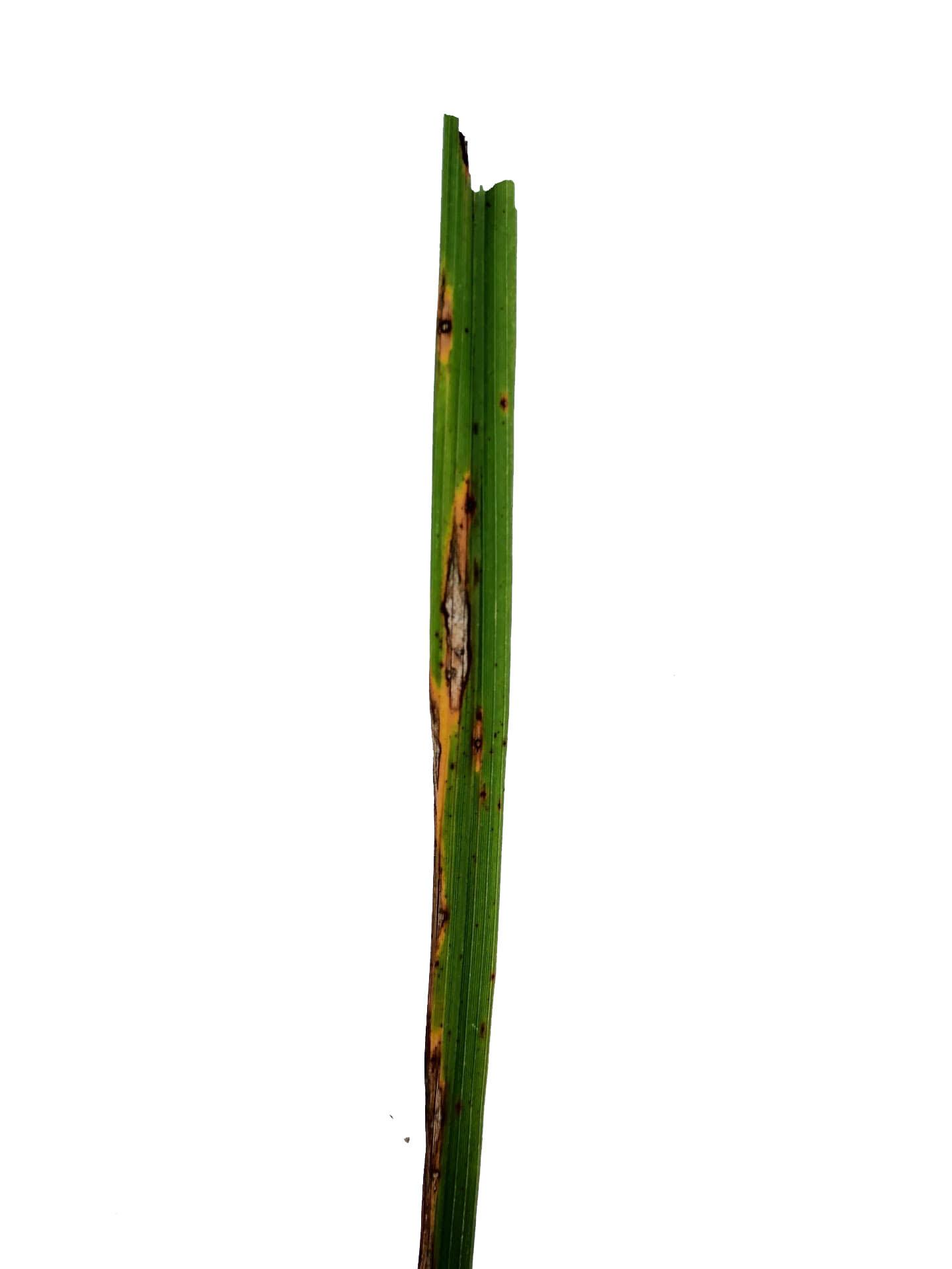Rice blast: (441, 539, 489, 727), (425, 1038, 454, 1255), (457, 699, 494, 791), (433, 292, 454, 373)
